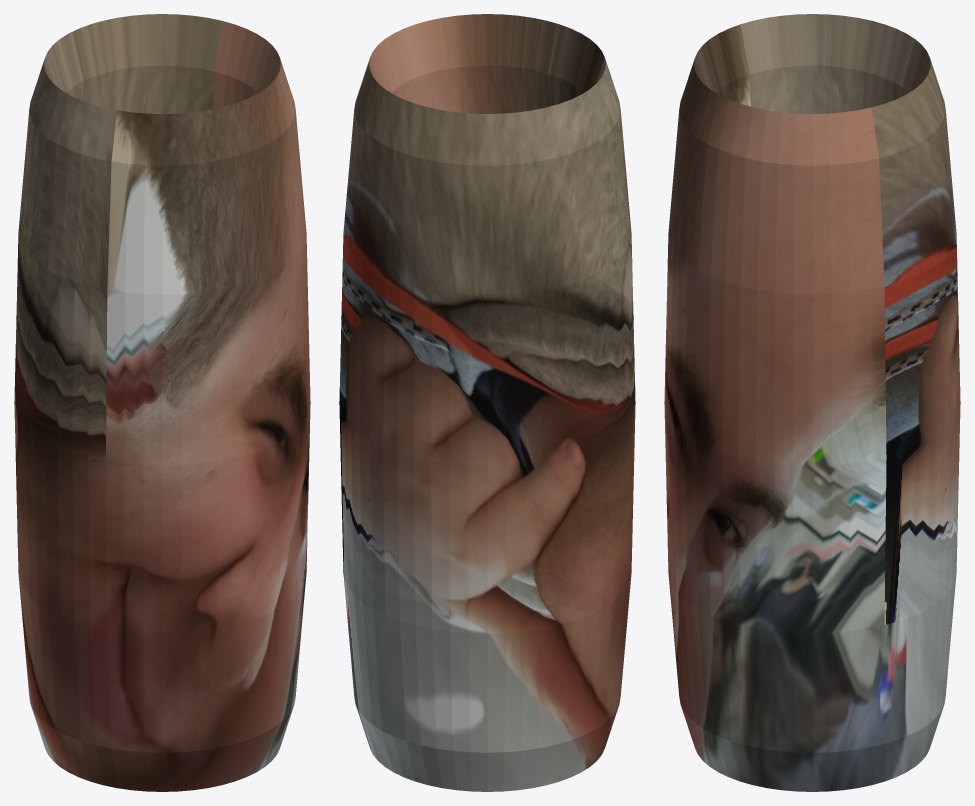
File: megataylor.dae
3 renders of one model, left to right at view 1: azimuth 30°, elevation 25°; view 2: azimuth 150°, elevation 25°; view 3: azimuth 270°, elevation 25°, orthographic.
Parts seen in each view (by area): view 1: Torus; view 2: Torus; view 3: Torus.
Boxes of the visible parts, left/top/right/bottom form: Torus: left=14, top=14, right=310, bottom=791; Torus: left=339, top=14, right=635, bottom=791; Torus: left=664, top=14, right=960, bottom=791.
Size of the model in its own units: 2.5 by 2.5 by 6.32.
